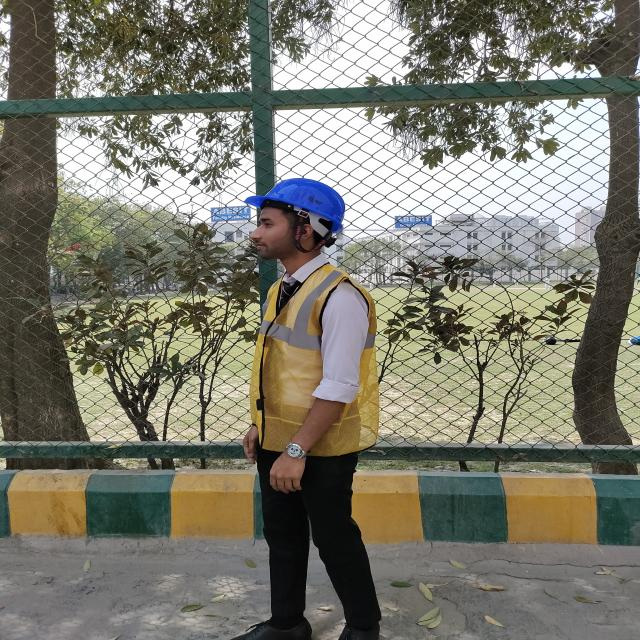safe: (242, 179, 380, 640)
